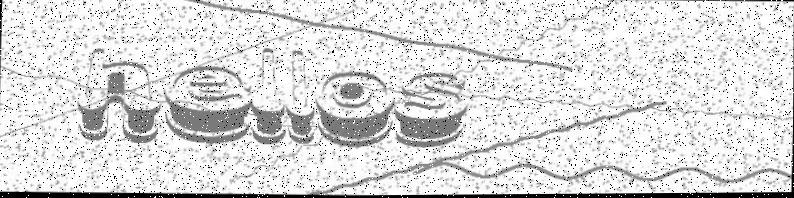e: (164, 65, 252, 145)
h: (76, 48, 162, 143)
l: (250, 47, 287, 146), (284, 51, 316, 144)
o: (316, 72, 394, 147)
s: (394, 72, 469, 148)
